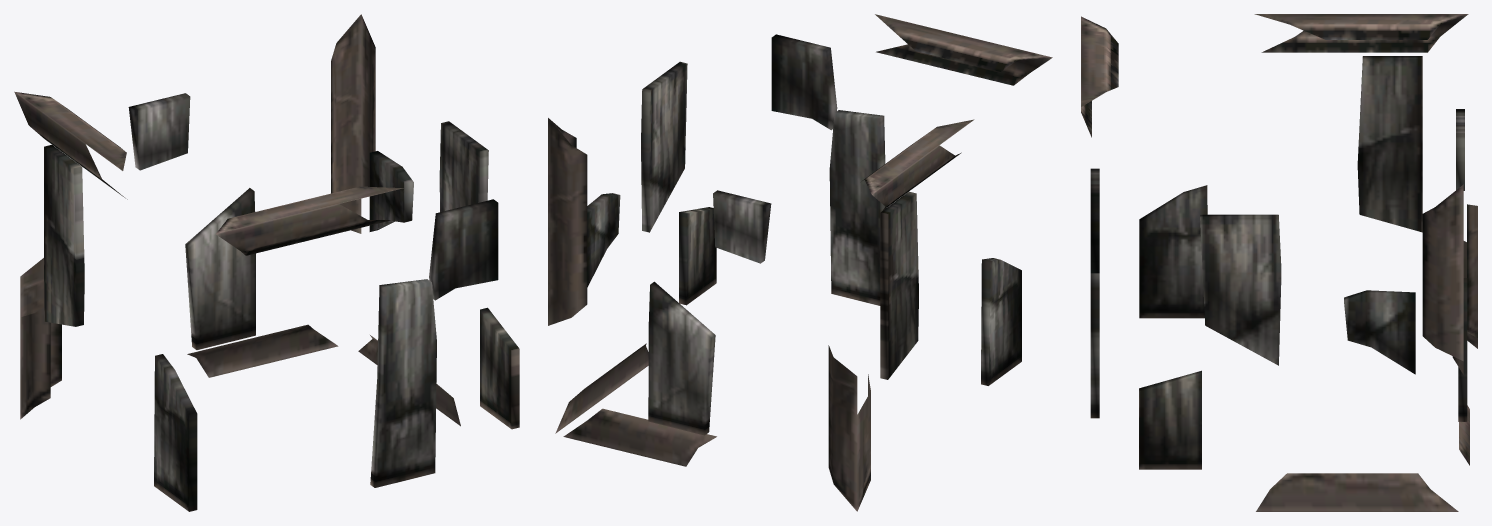
The model's file is INST_SWORDLIGHT_CRATE-DESTR_ANI.obj.
3 views of the same model, side by side, from view 1: azimuth 30°, elevation 25°; view 2: azimuth 150°, elevation 25°; view 3: azimuth 270°, elevation 25° (orthographic). The views are drawn at different scales.
Parts seen in each view (by area): view 1: Piece41, Piece13, Piece46, Piece30, Piece33, Piece37, Piece24, Piece02, Piece18, Piece59, Piece10, Piece04 (+3 smaller); view 2: Piece41, Piece13, Piece46, Piece30, Piece57, Piece33, Piece02, Piece37, Piece24, Piece04, Piece18, Piece10 (+3 smaller); view 3: Piece30, Piece57, Piece24, Piece51, Piece46, Piece18, Piece59, Piece53, Piece33, Piece02, Piece41, Piece37 (+2 smaller).
Boxes of the visible parts, x1=… form: Piece41: x1=370, y1=279, x2=436, y2=487; Piece13: x1=185, y1=188, x2=255, y2=349; Piece46: x1=331, y1=14, x2=375, y2=233; Piece30: x1=44, y1=145, x2=84, y2=326; Piece33: x1=216, y1=186, x2=403, y2=255; Piece37: x1=429, y1=199, x2=498, y2=300; Piece24: x1=154, y1=354, x2=197, y2=511; Piece02: x1=20, y1=258, x2=61, y2=419; Piece18: x1=14, y1=91, x2=127, y2=199; Piece59: x1=480, y1=307, x2=519, y2=429; Piece10: x1=128, y1=93, x2=190, y2=170; Piece04: x1=187, y1=324, x2=338, y2=377; Piece41: x1=829, y1=110, x2=885, y2=305; Piece13: x1=648, y1=281, x2=715, y2=435; Piece46: x1=548, y1=118, x2=587, y2=325; Piece30: x1=880, y1=191, x2=918, y2=379; Piece57: x1=641, y1=61, x2=687, y2=232; Piece33: x1=875, y1=14, x2=1052, y2=85; Piece02: x1=828, y1=345, x2=870, y2=511; Piece37: x1=771, y1=34, x2=837, y2=130; Piece24: x1=981, y1=258, x2=1021, y2=385; Piece04: x1=563, y1=408, x2=716, y2=466; Piece18: x1=862, y1=119, x2=974, y2=210; Piece10: x1=713, y1=190, x2=771, y2=263; Piece30: x1=1357, y1=56, x2=1422, y2=232; Piece57: x1=1200, y1=214, x2=1281, y2=365; Piece24: x1=1139, y1=185, x2=1207, y2=318; Piece51: x1=1256, y1=473, x2=1458, y2=511; Piece46: x1=1422, y1=184, x2=1463, y2=374; Piece18: x1=1254, y1=14, x2=1468, y2=52; Piece59: x1=1139, y1=370, x2=1201, y2=469; Piece53: x1=1344, y1=290, x2=1415, y2=374; Piece33: x1=1081, y1=16, x2=1118, y2=137; Piece02: x1=1463, y1=204, x2=1477, y2=348; Piece41: x1=1090, y1=273, x2=1099, y2=418; Piece37: x1=1090, y1=168, x2=1099, y2=273.
Bounding box in the file's own units: 78.26 × 73.52 × 79.03.
